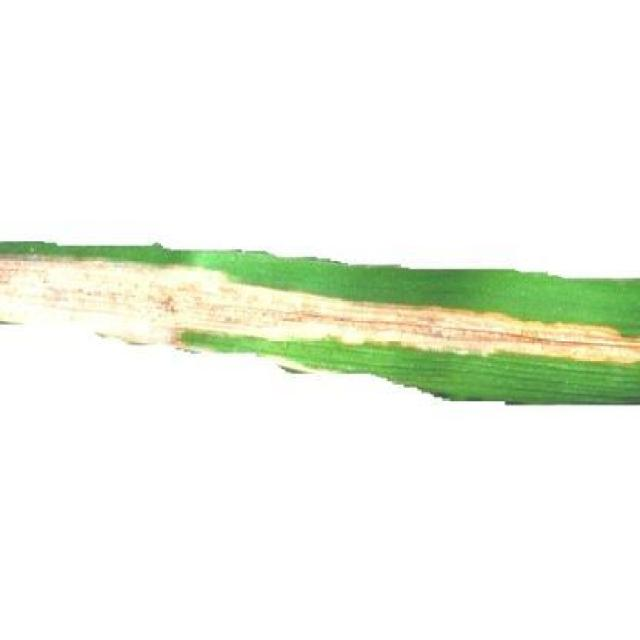Brown_Spot: (1, 261, 638, 376)
